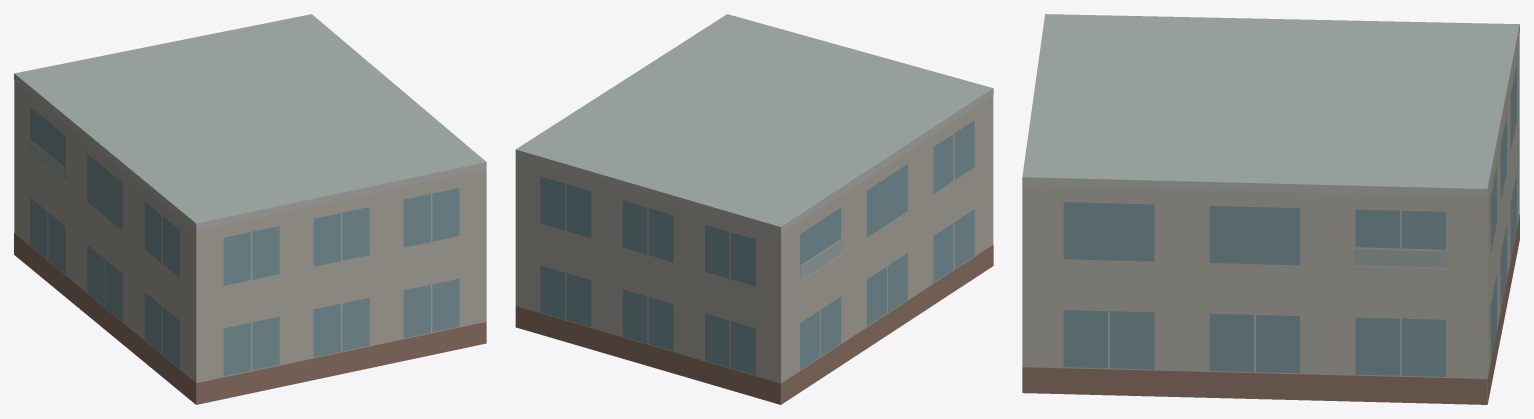
File: survey-upis-32940095.glb
3 renders of one model, left to right at view 1: azimuth 30°, elevation 25°; view 2: azimuth 150°, elevation 25°; view 3: azimuth 270°, elevation 25°, orthographic. The views are drawn at different scales.
Visible parts, largest first — view 1: survey-upis-32940095.tmp; view 2: survey-upis-32940095.tmp; view 3: survey-upis-32940095.tmp.
Part boxes in pixels (x1,y1,x2,y2): survey-upis-32940095.tmp: [14, 14, 486, 404]; survey-upis-32940095.tmp: [515, 14, 993, 404]; survey-upis-32940095.tmp: [1022, 14, 1519, 404].
Size of the model in its own units: 10.62 by 6.1 by 12.75.
